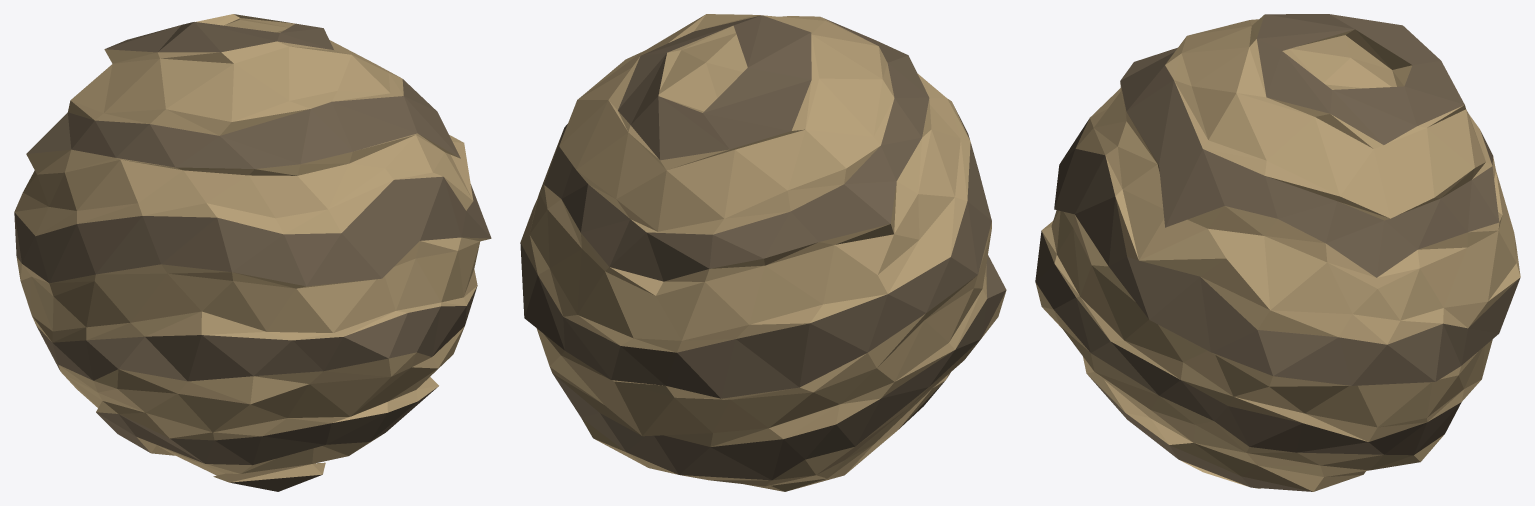
File: jupiter.obj
3 views of the same model, side by side, from view 1: azimuth 30°, elevation 25°; view 2: azimuth 150°, elevation 25°; view 3: azimuth 270°, elevation 25° (orthographic). The views are drawn at different scales.
Parts seen in each view (by area): view 1: Jupiter_Icosphere.006_Jupiter, Jupiter_Icosphere.006_JupiterHighlights; view 2: Jupiter_Icosphere.006_Jupiter, Jupiter_Icosphere.006_JupiterHighlights; view 3: Jupiter_Icosphere.006_Jupiter, Jupiter_Icosphere.006_JupiterHighlights.
Part boxes in pixels (box(x1,y1,x2,y2)): Jupiter_Icosphere.006_Jupiter: box(14, 14, 490, 482); Jupiter_Icosphere.006_JupiterHighlights: box(14, 22, 491, 491); Jupiter_Icosphere.006_Jupiter: box(520, 14, 1006, 491); Jupiter_Icosphere.006_JupiterHighlights: box(520, 15, 1006, 480); Jupiter_Icosphere.006_Jupiter: box(1035, 15, 1520, 491); Jupiter_Icosphere.006_JupiterHighlights: box(1035, 14, 1520, 491).
Size of the model in its own units: 4.15 by 3.98 by 4.04.
